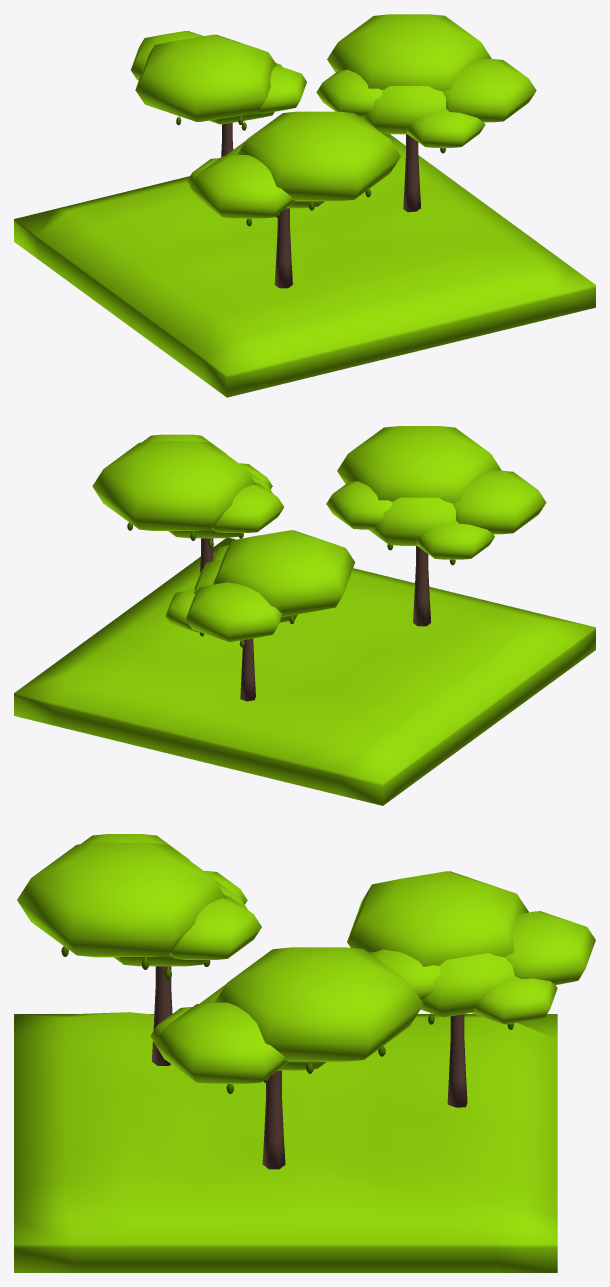
The model's file is TheMangoFarm.fbx.
3 views of the same model, one above another, from view 1: azimuth 30°, elevation 25°; view 2: azimuth 150°, elevation 25°; view 3: azimuth 270°, elevation 25° (orthographic). The views are drawn at different scales.
Visible parts, largest first — view 1: Plane.026, Plane.011; view 2: Plane.026, Plane.011; view 3: Plane.026, Plane.011.
Part boxes in pixels (x1,y1,x2,y2): Plane.026: (14, 133, 595, 397); Plane.011: (131, 14, 536, 288); Plane.026: (14, 537, 595, 805); Plane.011: (92, 426, 546, 701); Plane.026: (14, 1012, 557, 1272); Plane.011: (17, 834, 595, 1169).
Bounding box in the file's own units: 2526 × 1348 × 2631.
